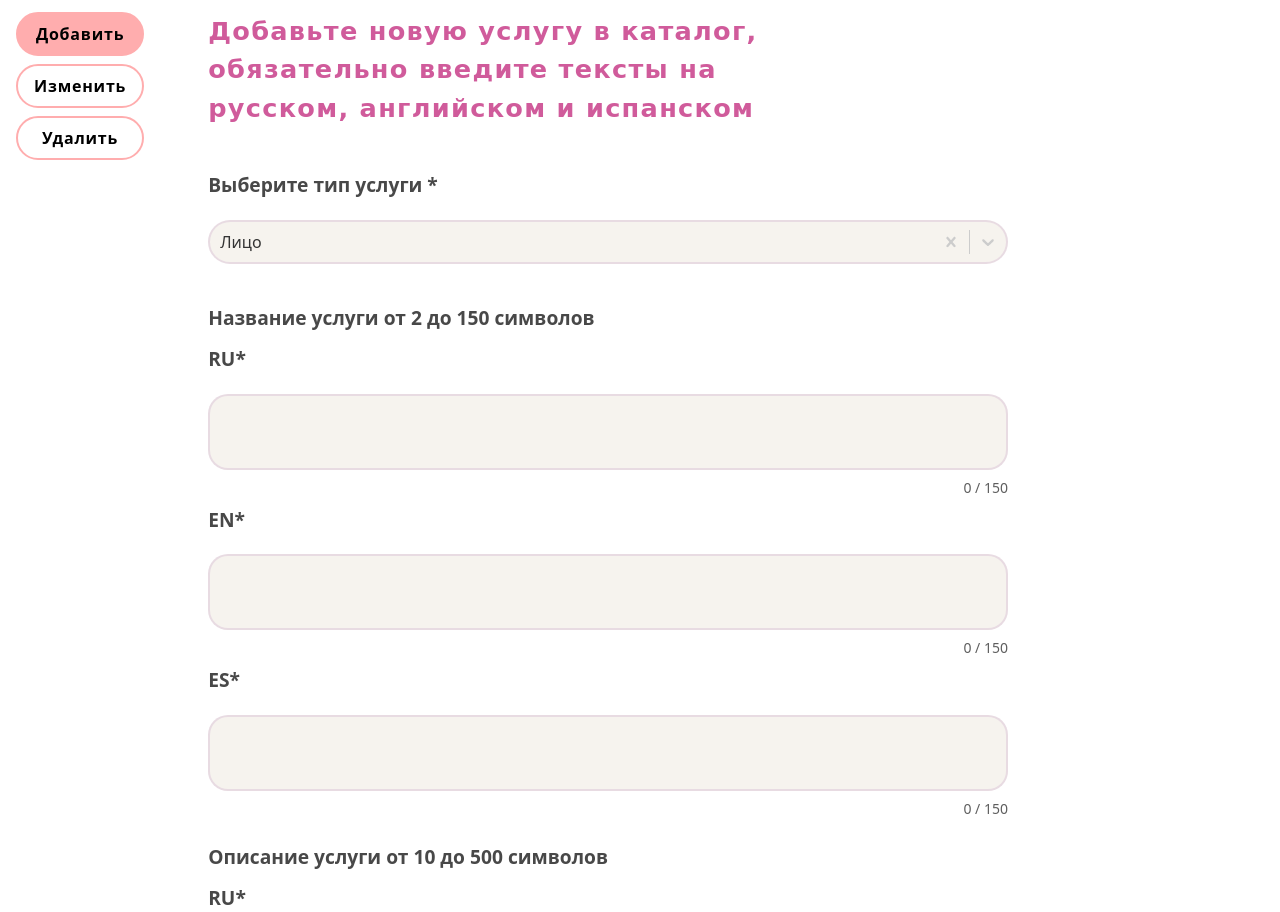
Test: DashboardPanel — change-service form › says so when no service matches the search
The image size is (1280, 912).
Click the button "Изменить" at (80, 86), box [16,64,144,108]
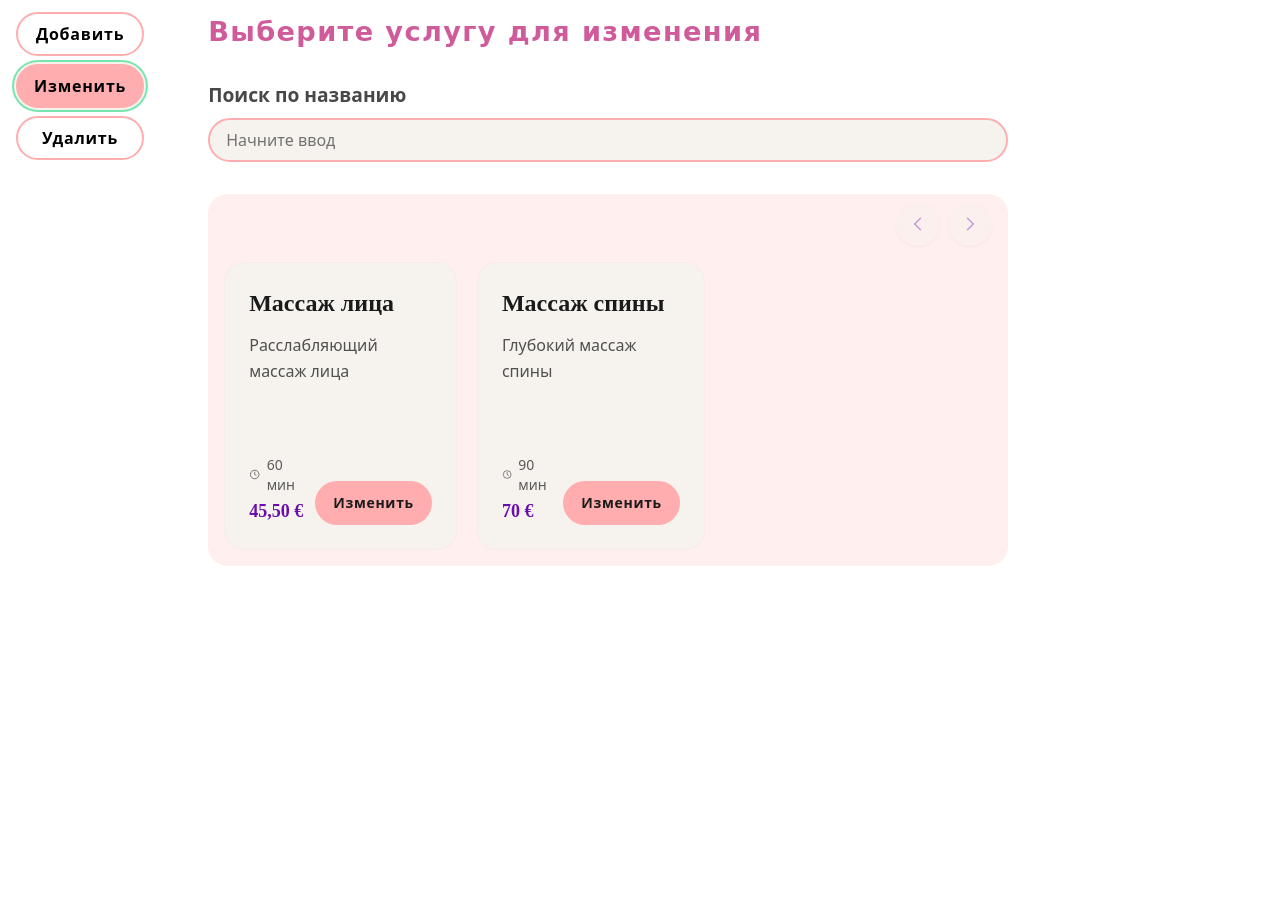
Type "педикюр" into the search field with test id "service-search" at (608, 140), box [208,118,1008,162]
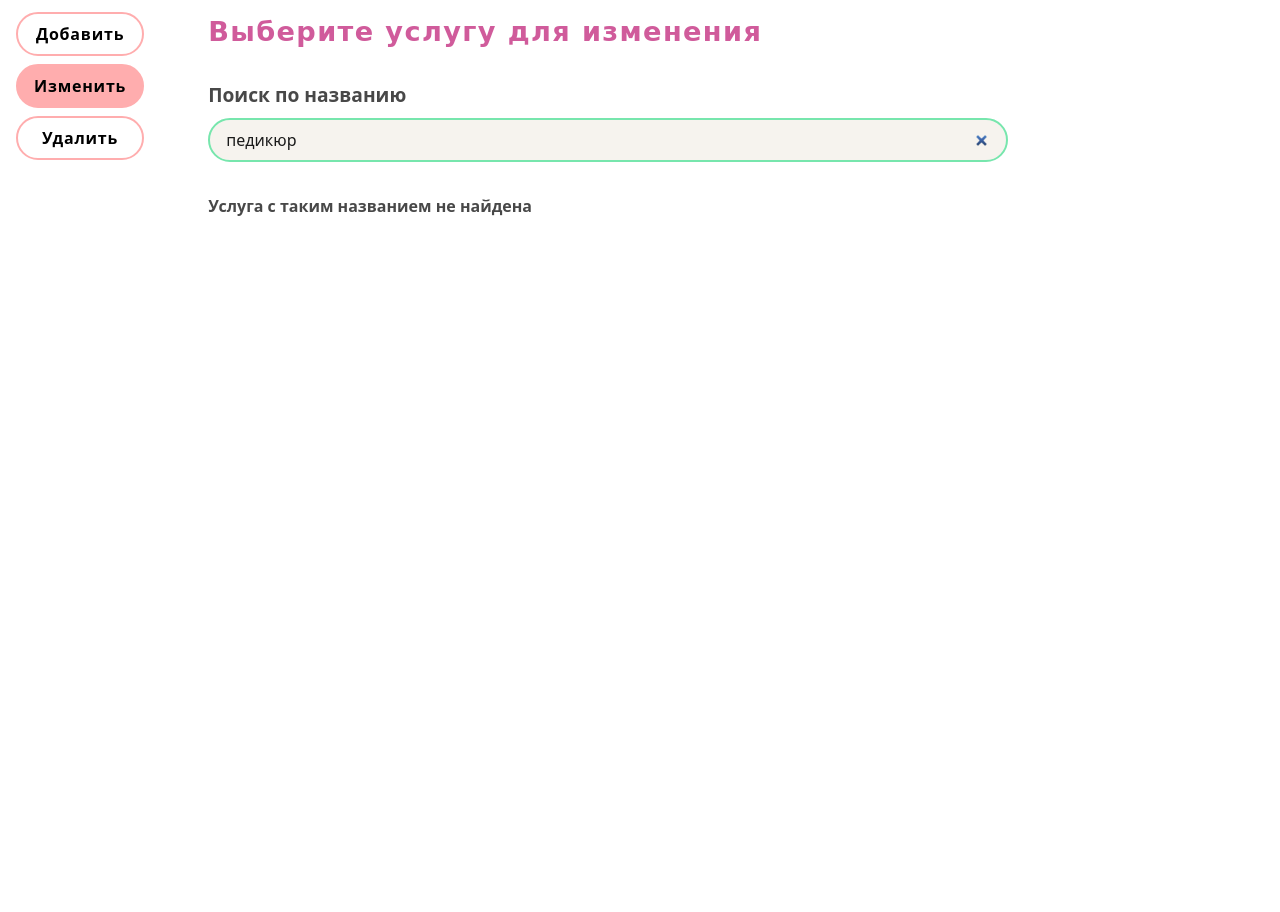
Result: the message with test id "service-search-status" reads "Услуга с таким названием не найдена" at [208,195,532,217]
